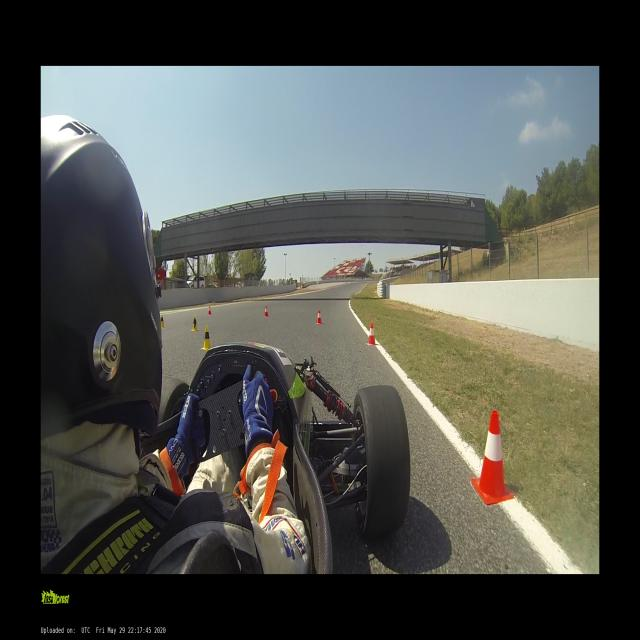orange_cone: (472, 410, 512, 504), (366, 323, 376, 345), (315, 311, 323, 324), (264, 306, 268, 317), (208, 306, 211, 315)
yellow_cone: (202, 326, 212, 350), (192, 315, 198, 331), (160, 314, 165, 328)
